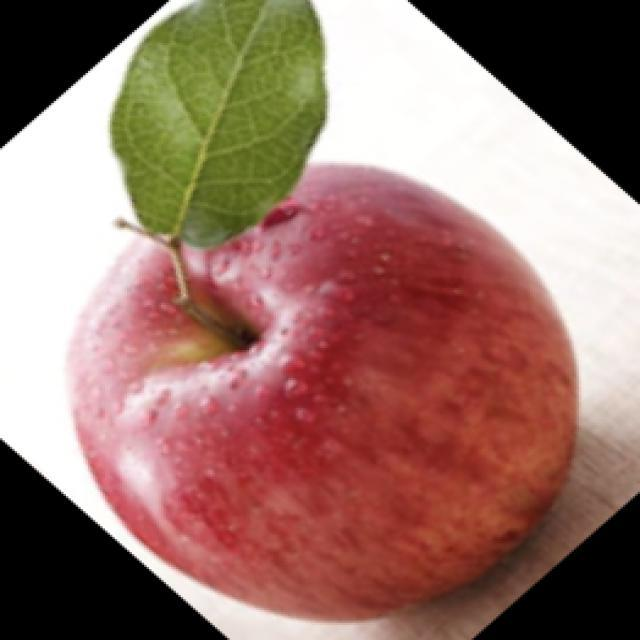Fresh Apple: (65, 151, 591, 623)
